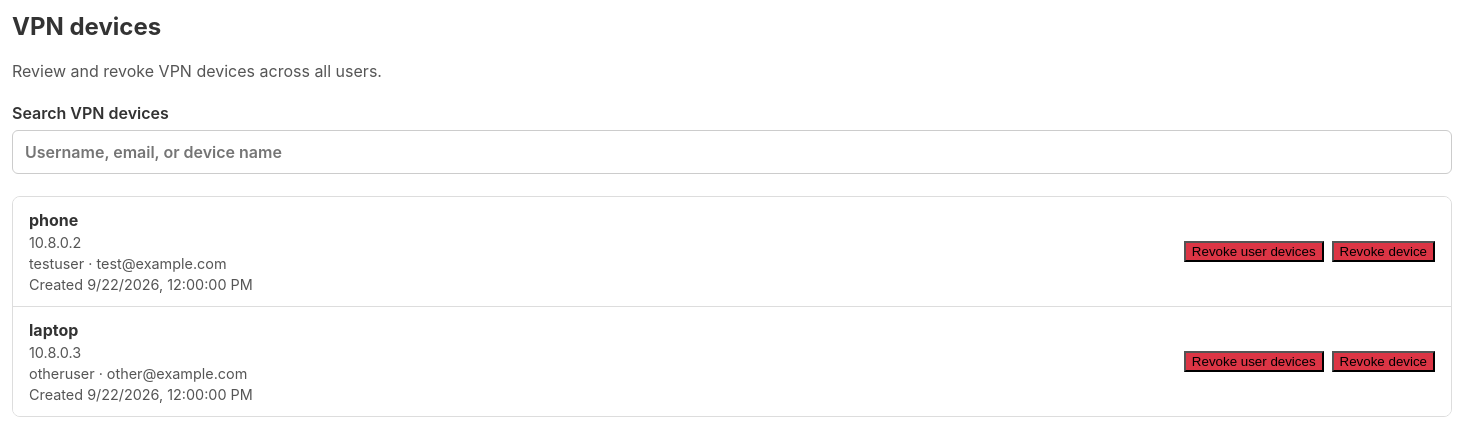
Test: VpnAdministration component › filters devices by owner username, email, and device name
The image size is (1464, 434).
Expected: the text "phone" is shown, [29, 210, 78, 230]
Type "other@example.com" into the field labelled "Search VPN devices" at (732, 152), box [12, 130, 1452, 174]
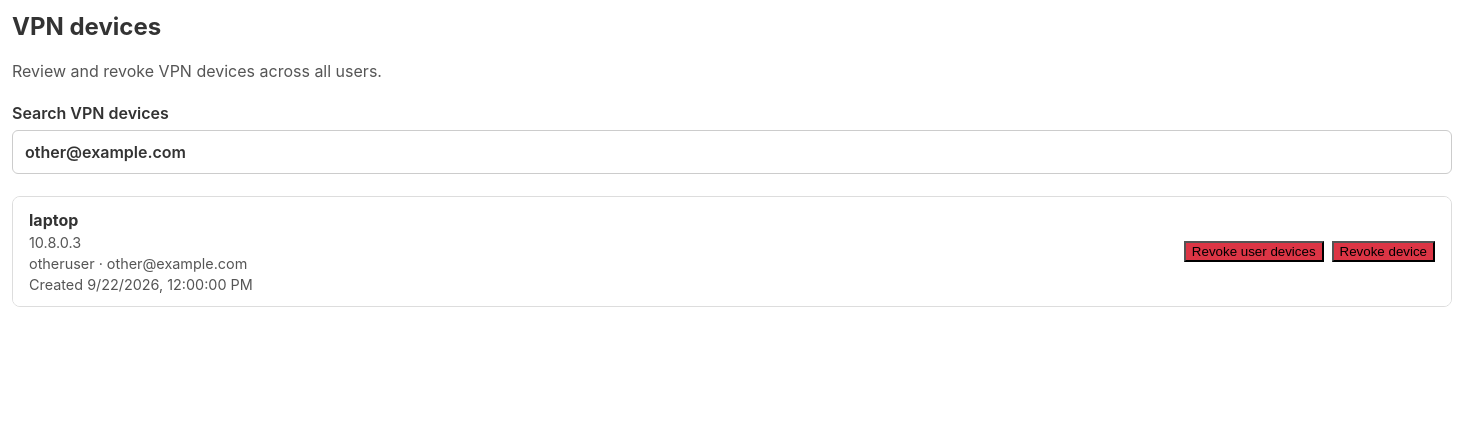
Expected: the text "laptop" is shown, [29, 210, 78, 230]
Expected: the text "phone" is gone
